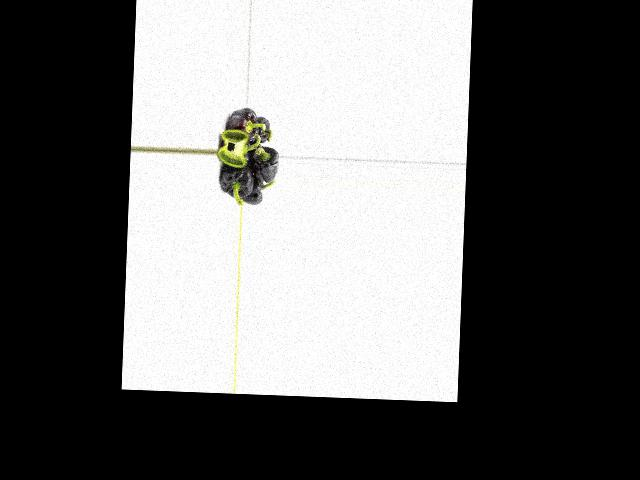bell_pepper: (227, 108, 259, 148)
